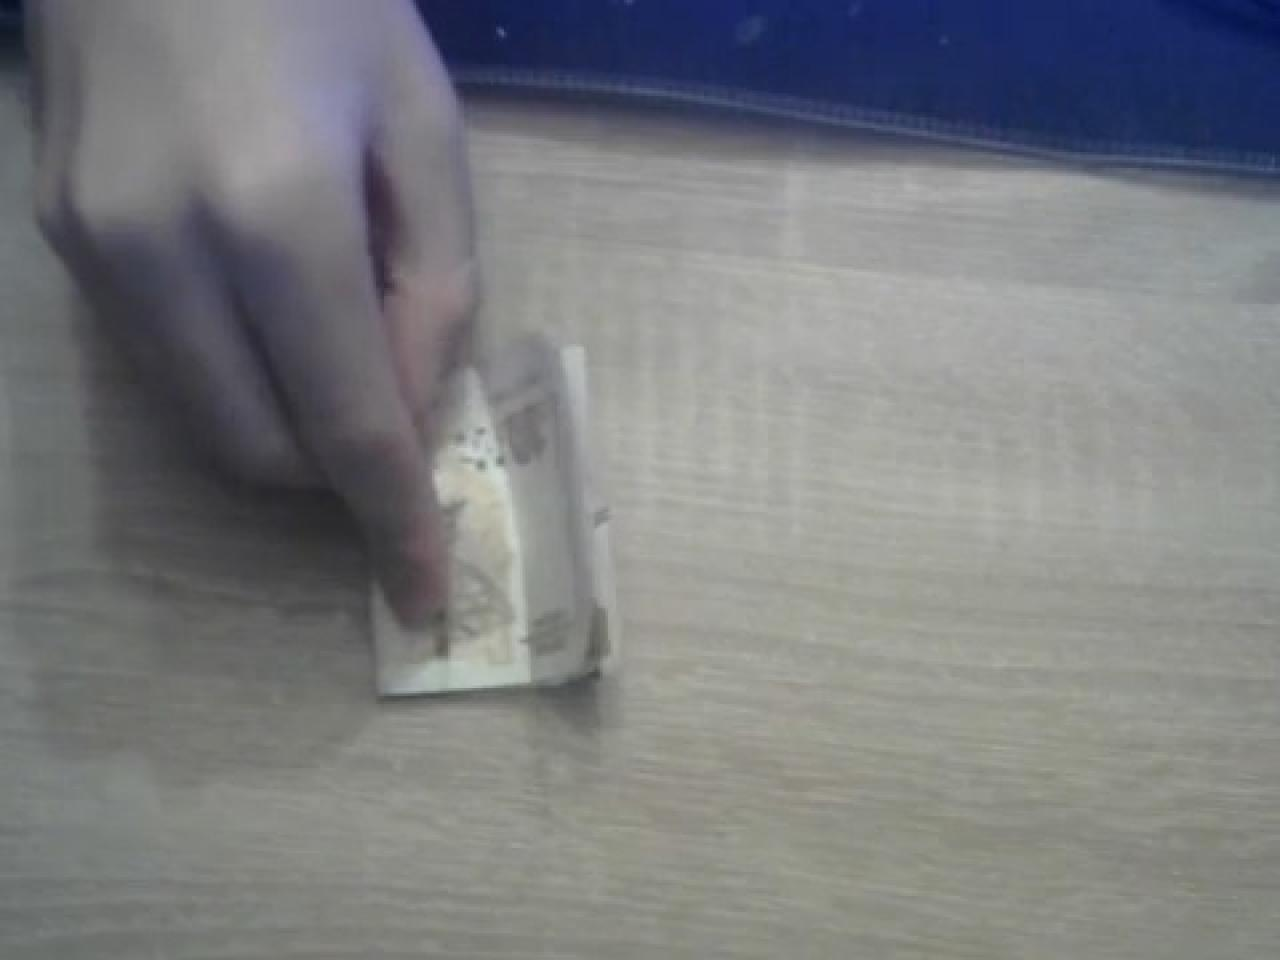10leva: (363, 328, 624, 701)
